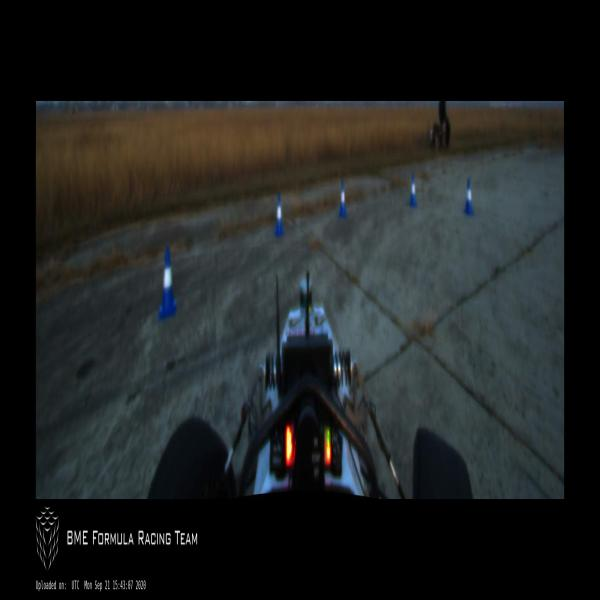blue_cone: (158, 246, 176, 318), (273, 193, 283, 235), (338, 180, 347, 216), (464, 179, 473, 214), (409, 173, 418, 207)
